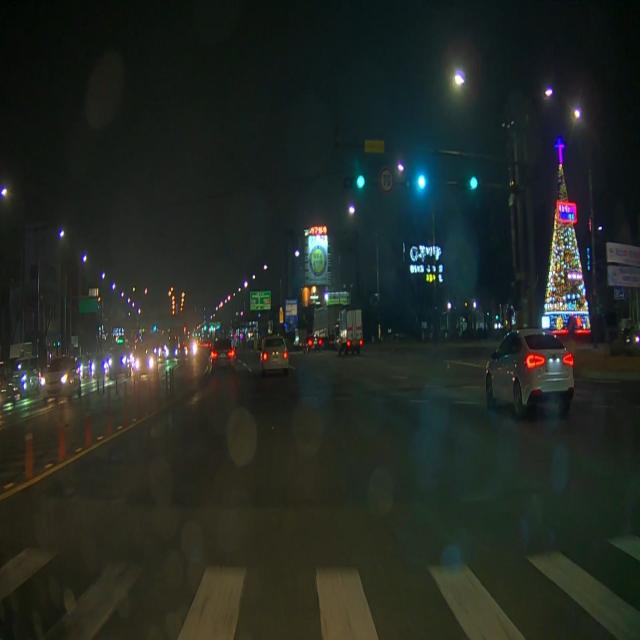Green Light: (416, 171, 427, 196), (354, 170, 366, 192), (468, 171, 478, 193)
